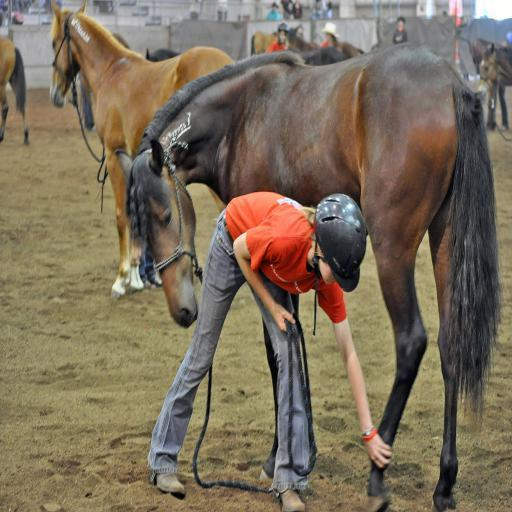horse: (113, 38, 504, 512), (47, 0, 235, 298), (467, 34, 507, 130), (0, 36, 29, 146), (478, 40, 512, 101), (291, 44, 349, 66), (250, 30, 290, 56), (142, 46, 180, 60)
